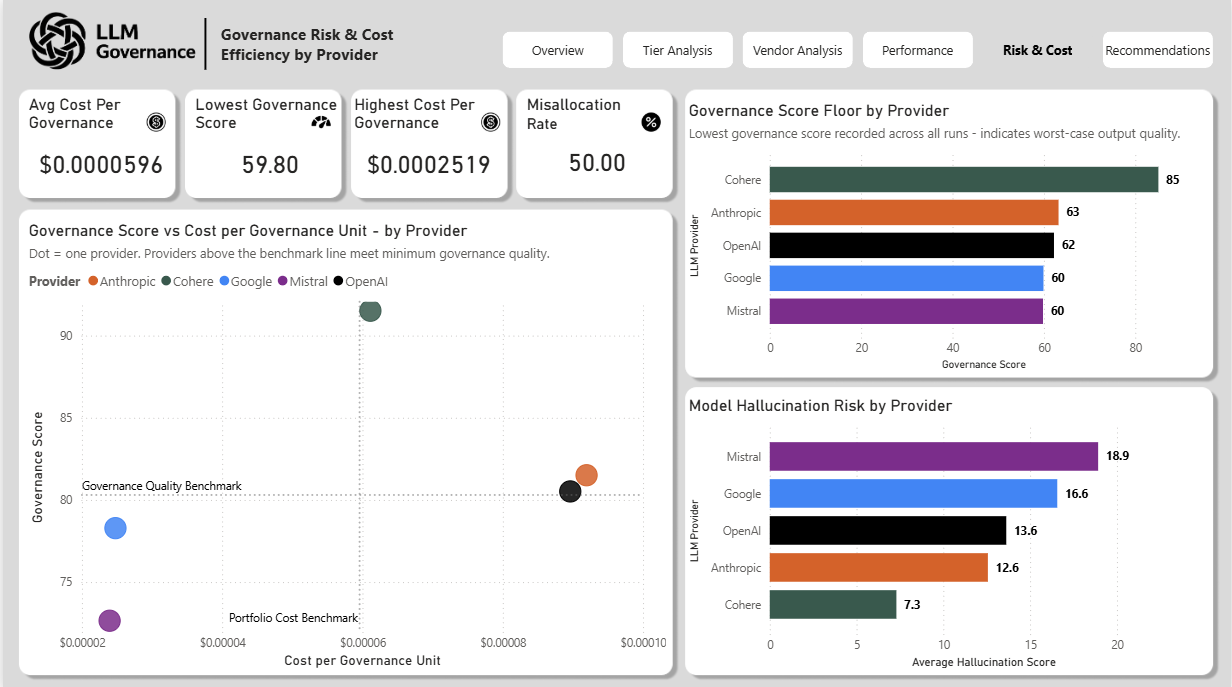

This screenshot's page, from the dashboard's own definition file:
{"tool":"powerbi","page":{"name":"Risk & Cost","canvas":[1280,720],"ordinal":4},"visuals":[{"type":"card","title":"Avg Cost Per Governance ","fields":{"Values":["Avg(vw_cost_per_governance_point.cost_per_governance_point)"]},"box":[22,98.3,159.9,104.2],"z":0},{"type":"card","title":"Lowest Governance Score","fields":{"Values":["Min(vw_governance_benchmark_base.governance_composite_index)"]},"box":[195.2,98.3,164.4,104.2],"z":1000},{"type":"card","title":"Highest Cost Per Governance","fields":{"Values":["Max(vw_cost_per_governance_point.cost_per_governance_point)"]},"box":[361,98.3,164.4,104.2],"z":2000},{"type":"scatterChart","title":"Governance Score vs Cost per Governance Unit - by Provider","fields":{"X":["Avg(vw_cost_per_governance_point.cost_per_governance_point)"],"Y":["Avg(vw_cost_per_governance_point.avg_governance_score)"],"Series":["vw_cost_per_governance_point.provider"]},"box":[22,228.9,673.5,471],"z":3000},{"type":"clusteredBarChart","title":"Model Hallucination Risk by Provider","fields":{"Category":["vw_governance_benchmark_base.provider"],"Y":["Avg(vw_governance_benchmark_base.hallucination_score)"]},"box":[710,411.8,547.3,288.2],"z":4000},{"type":"clusteredBarChart","title":"Governance Score Floor by Provider","fields":{"Category":["vw_governance_benchmark_base.provider"],"Y":["Min(vw_governance_benchmark_base.governance_composite_index)"]},"box":[710,104.5,547.3,285.5],"z":5000},{"type":"card","title":"Misallocation ","fields":{"Values":["Avg(vw_tier_compliance_summary.misallocation_rate_pct)"]},"box":[540.5,98.1,154.9,103.3],"z":6000},{"type":"pageNavigator","box":[520.9,32.3,744,38.2],"z":7000},{"type":"image","box":[22,0,183.4,83.6],"z":8000},{"type":"shape","box":[195,18.9,31.1,53.9],"z":9000},{"type":"textbox","box":[221.8,18.2,209.1,52.7],"z":10000},{"type":"image","box":[147.1,117.9,25,20],"z":11000},{"type":"image","box":[495.7,117.9,25,20],"z":12000},{"type":"image","box":[319.3,117.9,25,20],"z":13000},{"type":"image","box":[662.9,117.9,25,20],"z":14000}]}

Visuals, with their boxes in screenshot pixels (x1, y1, x2, y2), scaled from the page's 1280x720 canvas onto the 1232x687 screenshot:
"Avg Cost Per Governance " card: 21,94,175,193
"Lowest Governance Score" card: 188,94,346,193
"Highest Cost Per Governance" card: 347,94,506,193
"Governance Score vs Cost per Governance Unit - by Provider" scatterChart: 21,218,669,668
"Model Hallucination Risk by Provider" clusteredBarChart: 683,393,1210,668
"Governance Score Floor by Provider" clusteredBarChart: 683,100,1210,372
"Misallocation " card: 520,94,669,192
pageNavigator: 501,31,1217,67
image: 21,0,198,80
shape: 188,18,218,69
textbox: 213,17,415,68
image: 142,112,166,132
image: 477,112,501,132
image: 307,112,331,132
image: 638,112,662,132
